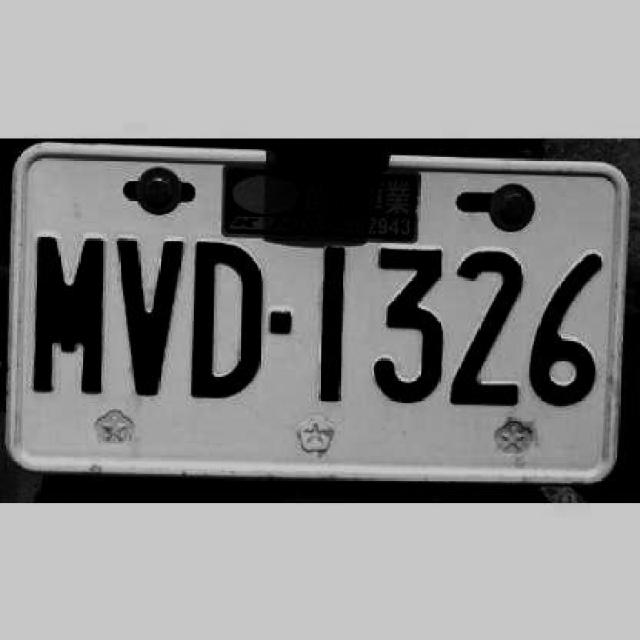-: (268, 303, 292, 339)
1: (317, 238, 349, 402)
2: (446, 240, 523, 409)
3: (371, 242, 446, 404)
6: (526, 245, 603, 409)
D: (186, 229, 265, 406)
M: (26, 228, 108, 398)
V: (109, 228, 185, 398)
